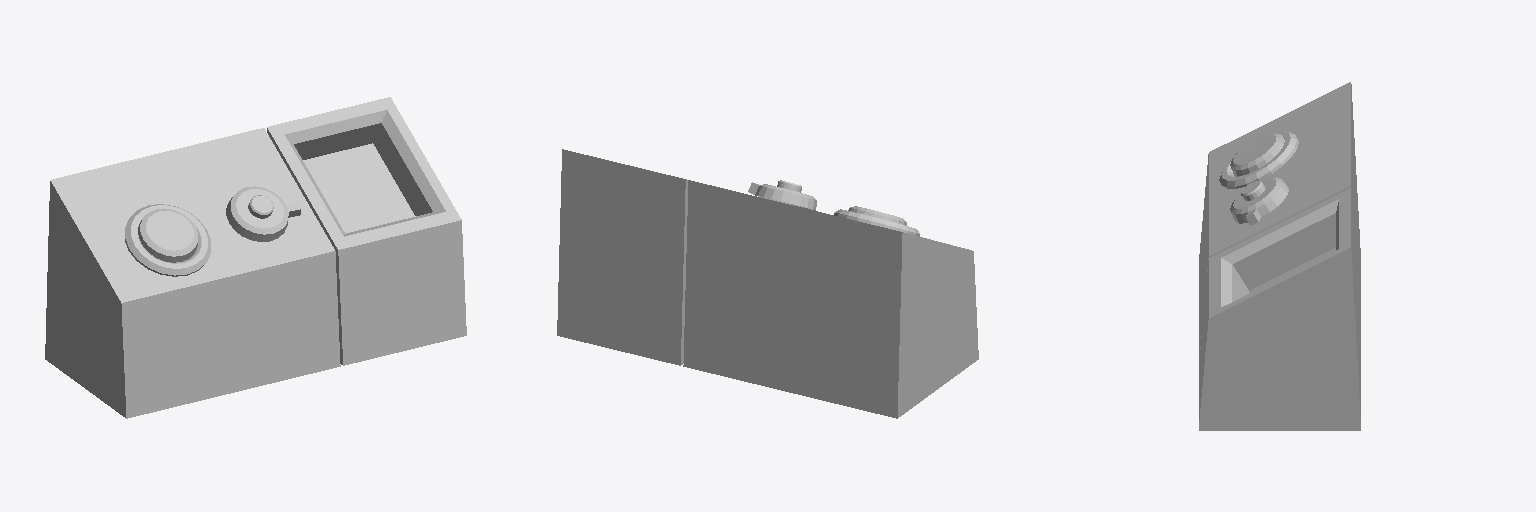
File: Crafting Console.obj
3 views of the same model, side by side, from view 1: azimuth 30°, elevation 25°; view 2: azimuth 150°, elevation 25°; view 3: azimuth 270°, elevation 25° (orthographic).
Visible parts, largest first — view 1: pCube1 Crafting_Console, Crafting_Console pCube2, Crafting_Console pCylinder11, Crafting_Console pCylinder6, Crafting_Console pCylinder7; view 2: pCube1 Crafting_Console, Crafting_Console pCube2, Crafting_Console pCylinder11, Crafting_Console pCylinder7; view 3: Crafting_Console pCube2, pCube1 Crafting_Console, Crafting_Console pCylinder11, Crafting_Console pCylinder6, Crafting_Console pCylinder7.
Boxes of the visible parts, x1=… form: pCube1 Crafting_Console: x1=45, y1=128, x2=340, y2=418; Crafting_Console pCube2: x1=267, y1=97, x2=466, y2=365; Crafting_Console pCylinder11: x1=226, y1=186, x2=300, y2=241; Crafting_Console pCylinder6: x1=138, y1=208, x2=197, y2=262; Crafting_Console pCylinder7: x1=125, y1=204, x2=210, y2=276; pCube1 Crafting_Console: x1=683, y1=180, x2=978, y2=418; Crafting_Console pCube2: x1=557, y1=149, x2=687, y2=365; Crafting_Console pCylinder11: x1=748, y1=180, x2=816, y2=210; Crafting_Console pCylinder7: x1=834, y1=209, x2=919, y2=236; Crafting_Console pCube2: x1=1199, y1=188, x2=1360, y2=430; pCube1 Crafting_Console: x1=1199, y1=82, x2=1360, y2=359; Crafting_Console pCylinder11: x1=1230, y1=177, x2=1288, y2=225; Crafting_Console pCylinder6: x1=1230, y1=133, x2=1284, y2=176; Crafting_Console pCylinder7: x1=1219, y1=131, x2=1298, y2=188.
Size of the model in its own units: 2.41 by 1.24 by 1.